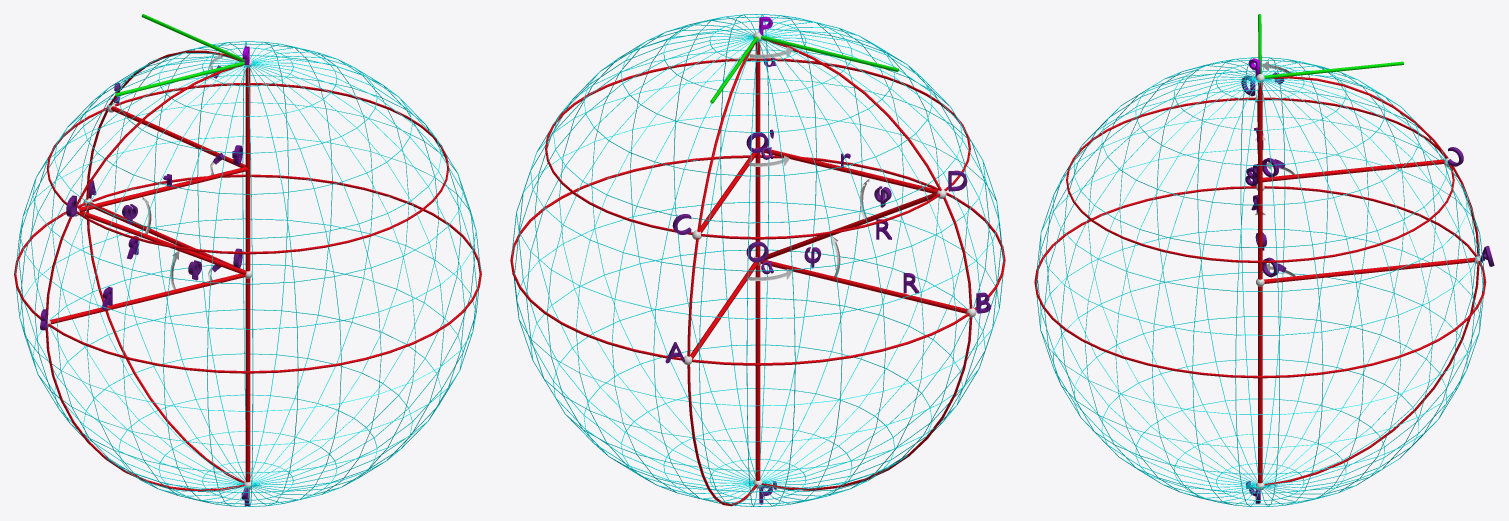
Rendered from anotherONE.glb.
3 renders of one model, left to right at view 1: azimuth 30°, elevation 25°; view 2: azimuth 150°, elevation 25°; view 3: azimuth 270°, elevation 25°, orthographic. The views are drawn at different scales.
Parts seen in each view (by area): view 1: Sphere, Torus.003, Torus.002, Cylinder.001, Torus, Torus.001, Cylinder.006, Cylinder.004, Cylinder.003, Cylinder.005, Cylinder.002, Cylinder.008; view 2: Sphere, Torus.003, Torus.002, Cylinder.001, Torus, Torus.001, Cylinder.006, Cylinder.004, Cylinder.003, Cylinder.002, Cylinder.008; view 3: Sphere, Torus.003, Torus.002, Cylinder.001, Torus.001, Cylinder.002, Cylinder.005, Cylinder.007.
Boxes of the visible parts, x1,y1,x2,y2 form: Sphere: [15, 41, 480, 506]; Torus.003: [14, 174, 481, 373]; Torus.002: [46, 83, 449, 254]; Cylinder.001: [245, 67, 250, 482]; Torus: [45, 65, 244, 491]; Torus.001: [86, 50, 243, 482]; Cylinder.006: [50, 273, 245, 324]; Cylinder.004: [78, 167, 248, 212]; Cylinder.003: [80, 211, 246, 274]; Cylinder.005: [111, 106, 245, 167]; Cylinder.002: [87, 202, 244, 270]; Cylinder.008: [115, 61, 244, 96]; Sphere: [511, 14, 1004, 506]; Torus.003: [510, 155, 1005, 365]; Torus.002: [545, 58, 970, 239]; Cylinder.001: [755, 42, 760, 480]; Torus: [761, 39, 972, 490]; Torus.001: [687, 42, 757, 506]; Cylinder.006: [760, 260, 967, 313]; Cylinder.004: [759, 147, 938, 193]; Cylinder.003: [764, 193, 936, 260]; Cylinder.002: [690, 262, 758, 359]; Cylinder.008: [761, 35, 898, 71]; Sphere: [1036, 57, 1484, 506]; Torus.003: [1034, 186, 1486, 378]; Torus.002: [1066, 97, 1454, 263]; Cylinder.001: [1258, 82, 1262, 483]; Torus.001: [1264, 76, 1479, 485]; Cylinder.002: [1264, 257, 1474, 283]; Cylinder.005: [1261, 159, 1444, 182]; Cylinder.007: [1264, 61, 1403, 78].
Size of the model in its own units: 2.07 by 2.17 by 2.05.
